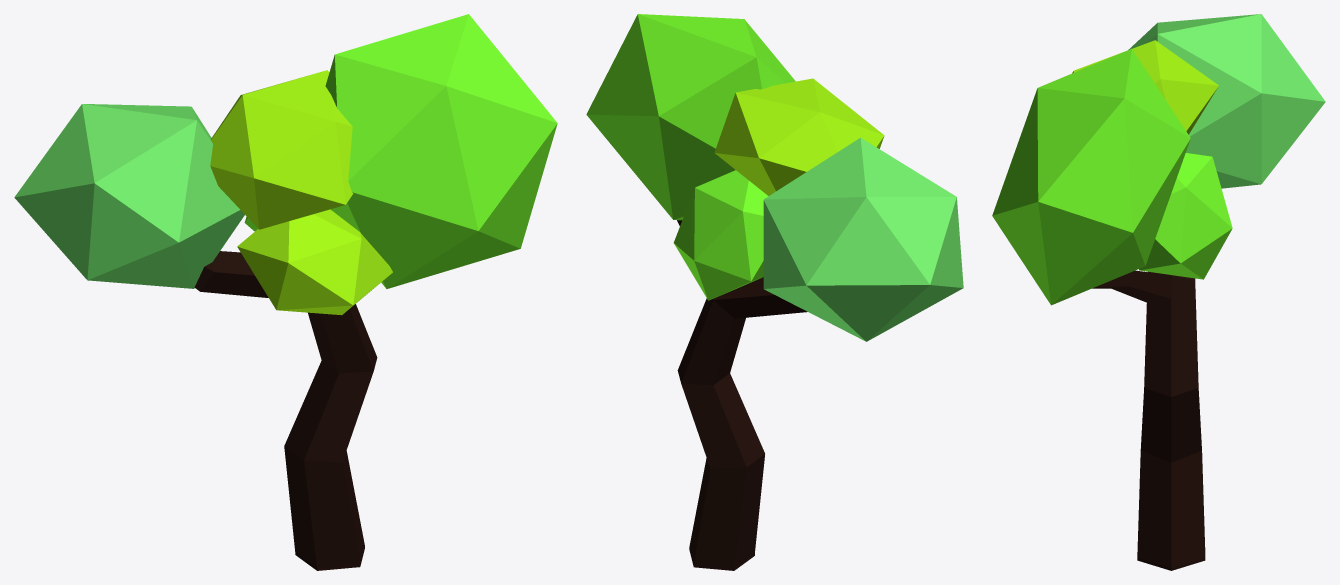
The model's file is 세계수1.fbx.
The picture shows the model from 3 angles, left to right: view 1: azimuth 30°, elevation 25°; view 2: azimuth 150°, elevation 25°; view 3: azimuth 270°, elevation 25°; orthographic projection. The views are drawn at different scales.
Parts seen in each view (by area): view 1: Cylinder004; view 2: Cylinder004; view 3: Cylinder004.
Boxes of the visible parts, x1,y1,x2,y2 form: Cylinder004: (14, 14, 557, 570); Cylinder004: (586, 14, 963, 570); Cylinder004: (992, 14, 1325, 570).
Bounding box in the file's own units: 478 × 561 × 333.
